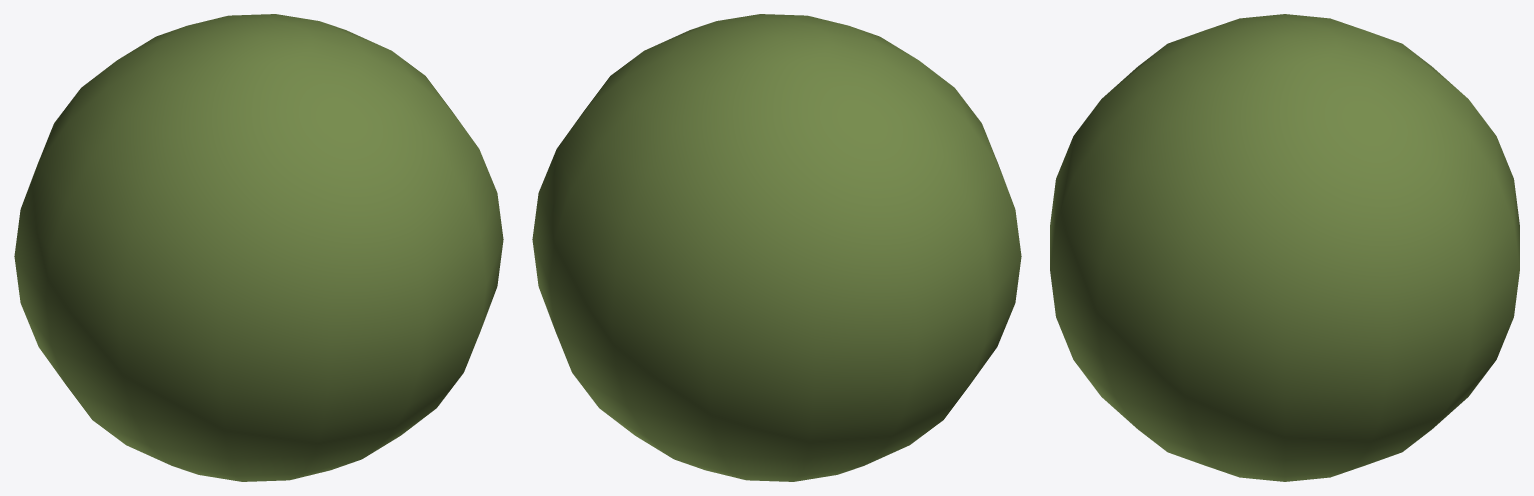
File: watermelon.fbx
The picture shows the model from 3 angles, left to right: view 1: azimuth 30°, elevation 25°; view 2: azimuth 150°, elevation 25°; view 3: azimuth 270°, elevation 25°; orthographic projection.
Visible parts, largest first — view 1: pSphere39; view 2: pSphere39; view 3: pSphere39.
Part boxes in pixels (x1,y1,x2,y2): pSphere39: [14, 14, 503, 481]; pSphere39: [532, 14, 1021, 481]; pSphere39: [1050, 14, 1519, 481].
Bounding box in the file's own units: 3.31 × 3.12 × 3.17.
